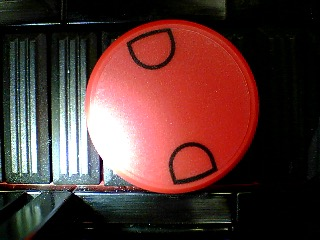MIPO2: (84, 19, 260, 194)
